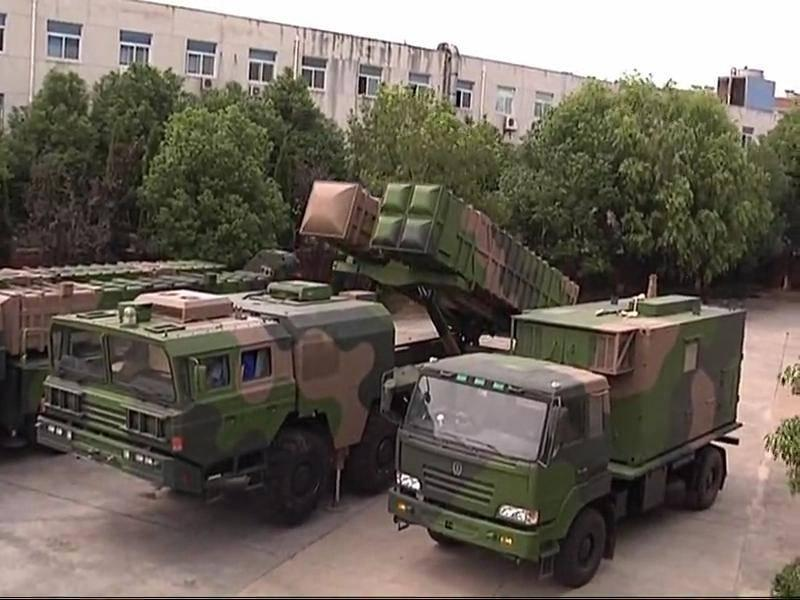truck: (386, 283, 750, 586)
